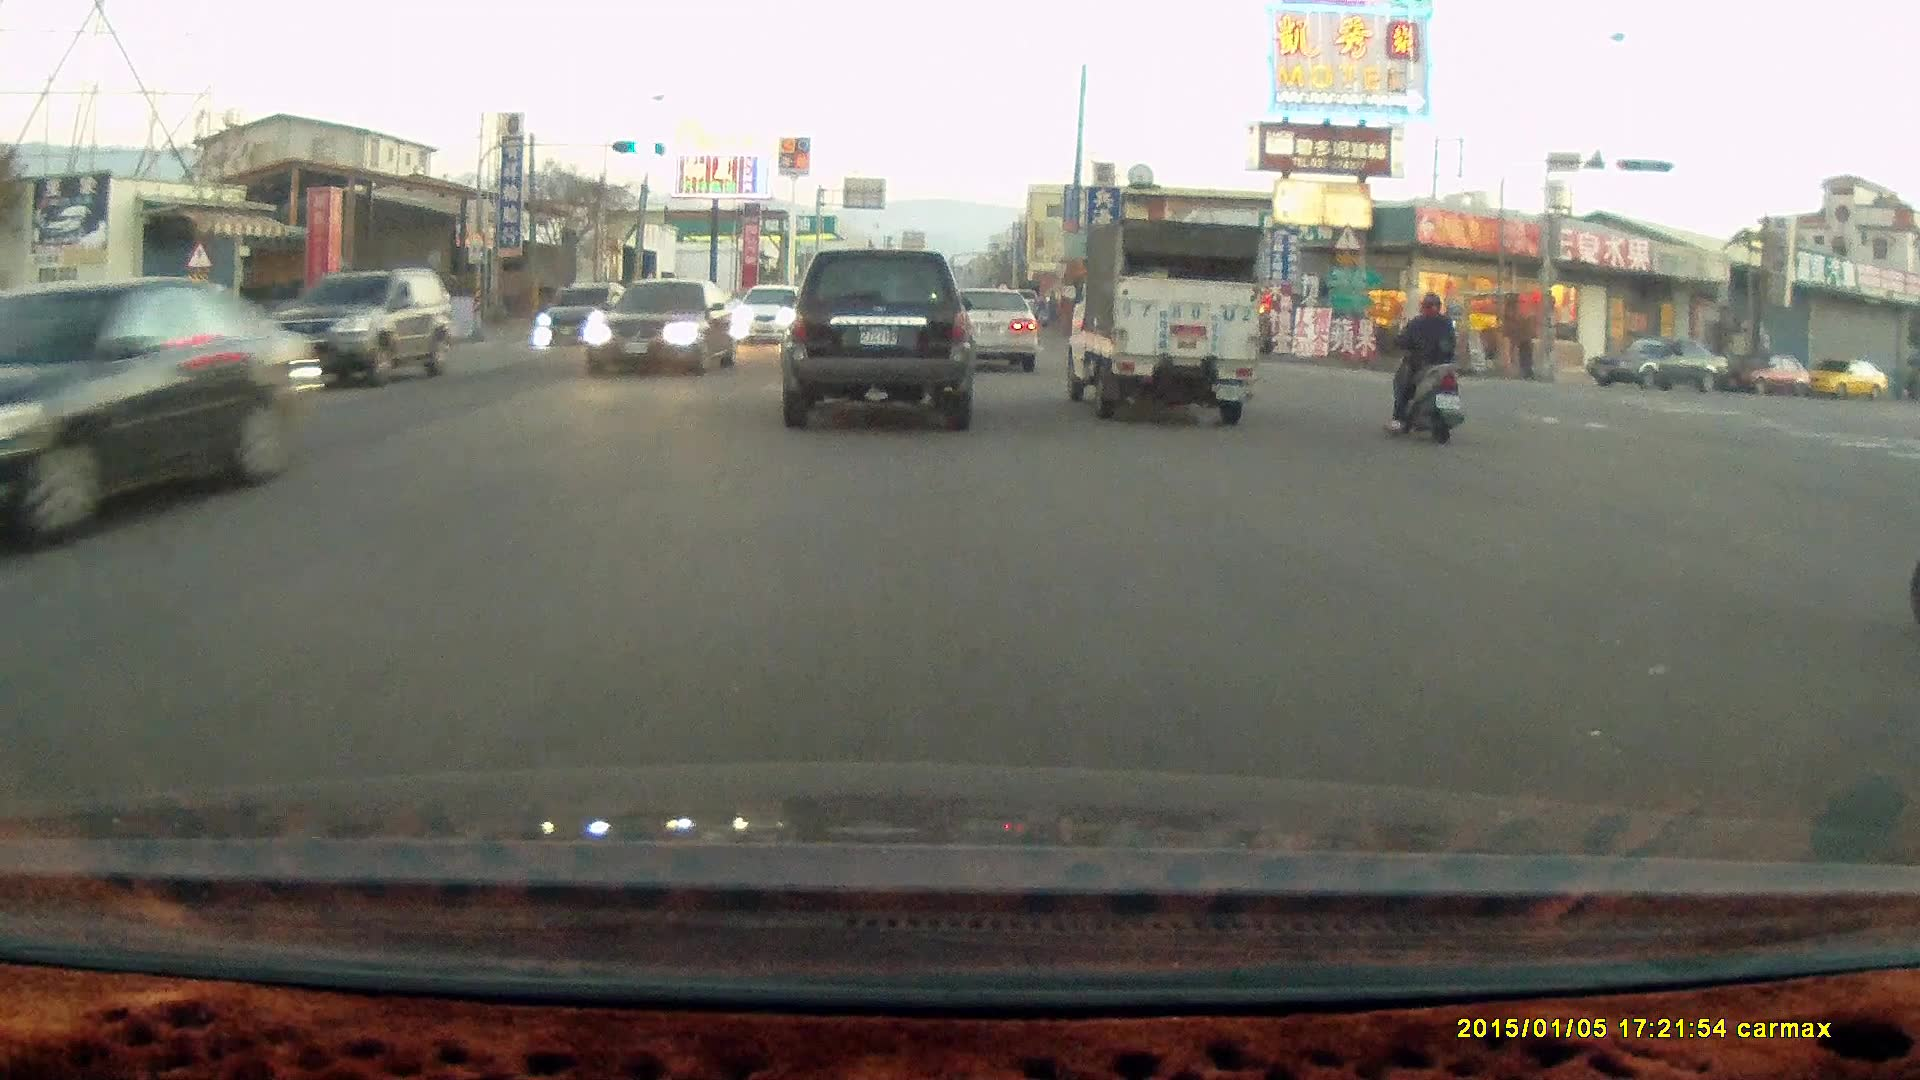rider: (1382, 290, 1461, 446)
vehicle: (4, 269, 308, 548), (1058, 214, 1267, 426), (779, 247, 976, 432), (275, 268, 457, 390), (586, 279, 744, 379), (927, 284, 1038, 375), (1583, 338, 1733, 396), (946, 287, 1042, 376), (539, 279, 632, 349), (341, 287, 454, 335), (730, 284, 802, 349), (1724, 354, 1814, 399), (1797, 359, 1891, 403)
